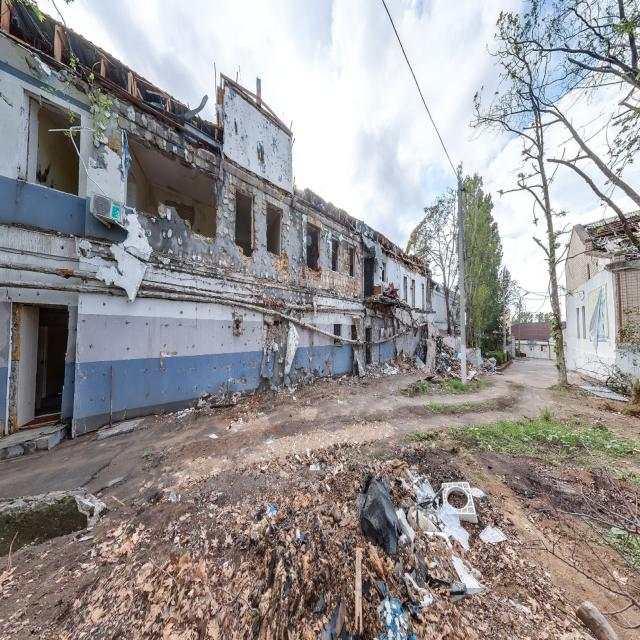broken_window: (33, 101, 81, 196), (234, 187, 254, 256), (266, 201, 282, 258), (305, 220, 320, 271)
building: (0, 0, 452, 452), (564, 210, 639, 391)
